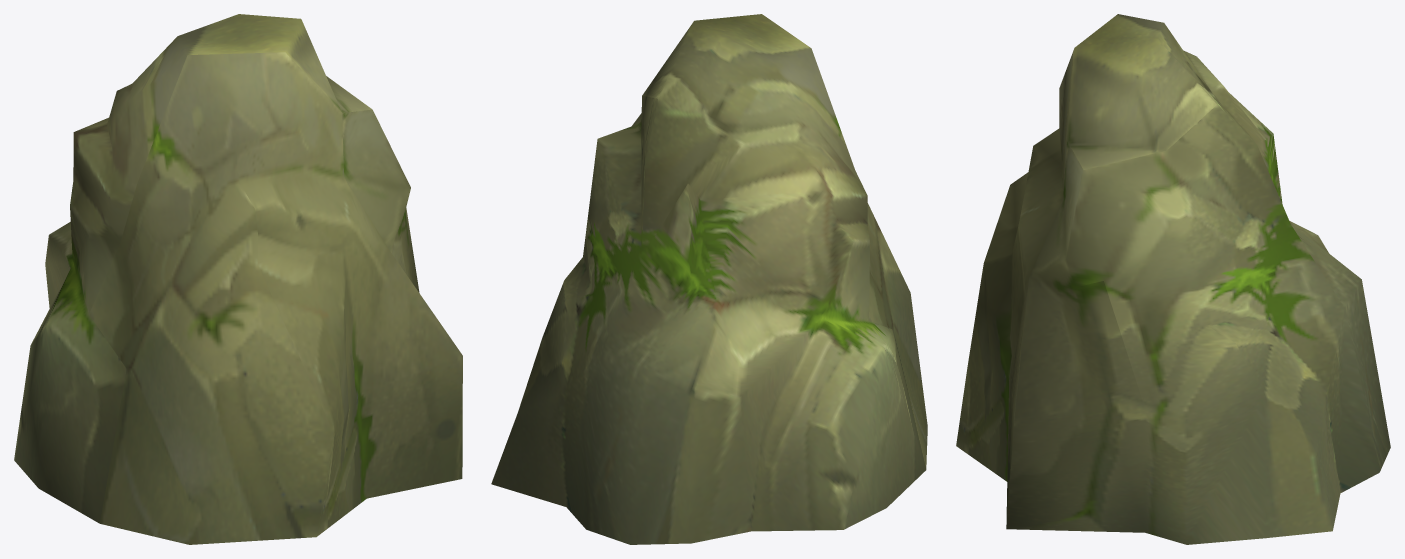
The model's file is shanshi_zhongxing01_3.FBX.
3 renders of one model, left to right at view 1: azimuth 30°, elevation 25°; view 2: azimuth 150°, elevation 25°; view 3: azimuth 270°, elevation 25°, orthographic. The views are drawn at different scales.
Visible parts, largest first — view 1: shanshi_zhongxing01_3; view 2: shanshi_zhongxing01_3; view 3: shanshi_zhongxing01_3.
Part boxes in pixels (box(x1,y1,x2,y2)): shanshi_zhongxing01_3: box(14, 14, 462, 544); shanshi_zhongxing01_3: box(491, 14, 927, 544); shanshi_zhongxing01_3: box(956, 14, 1390, 544).
Bounding box in the file's own units: 301 × 349 × 325.
